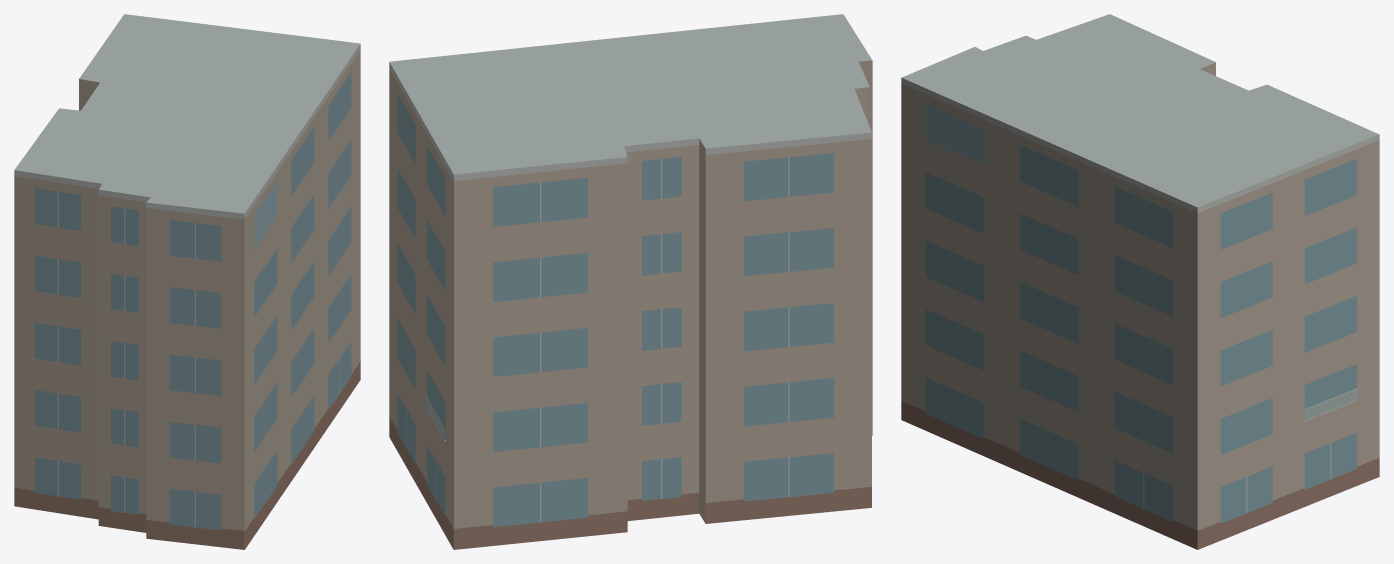
File: survey-upis-32619962.glb
The picture shows the model from 3 angles, left to right: view 1: azimuth 30°, elevation 25°; view 2: azimuth 150°, elevation 25°; view 3: azimuth 270°, elevation 25°; orthographic projection. The views are drawn at different scales.
Visible parts, largest first — view 1: survey-upis-32619962.tmp; view 2: survey-upis-32619962.tmp; view 3: survey-upis-32619962.tmp.
Part boxes in pixels (left/top/right/bottom): survey-upis-32619962.tmp: left=14, top=14, right=360, bottom=549; survey-upis-32619962.tmp: left=389, top=14, right=872, bottom=549; survey-upis-32619962.tmp: left=901, top=14, right=1379, bottom=549.
Bounding box in the file's own units: 17.22 × 14.2 × 17.98.
